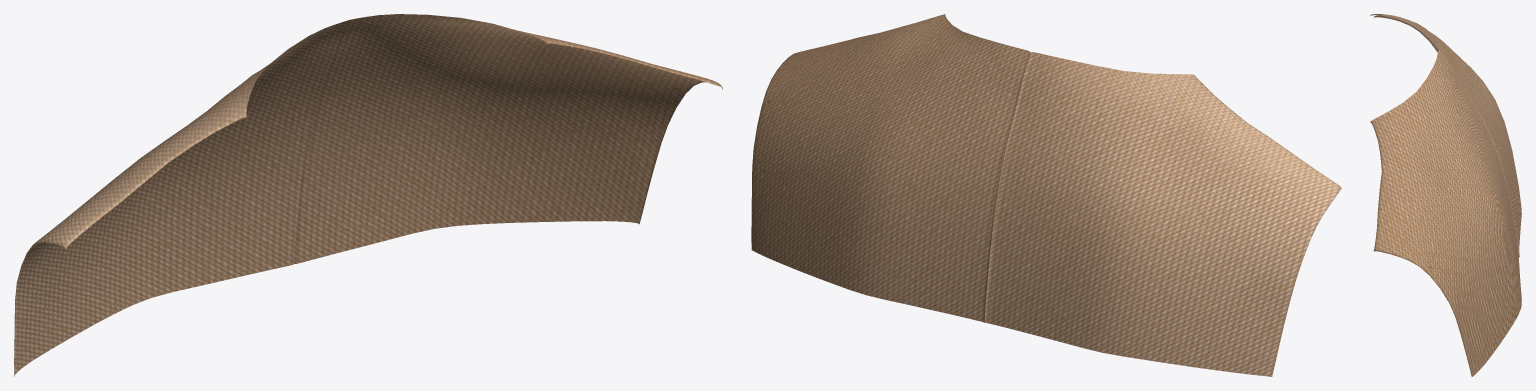
Rendered from Half_Linning.glb.
3 views of the same model, side by side, from view 1: azimuth 30°, elevation 25°; view 2: azimuth 150°, elevation 25°; view 3: azimuth 270°, elevation 25° (orthographic). The views are drawn at different scales.
Visible parts, largest first — view 1: Half_Linning; view 2: Half_Linning; view 3: Half_Linning.
Part boxes in pixels (box(x1,y1,x2,y2)): Half_Linning: box(14, 14, 722, 376); Half_Linning: box(751, 14, 1341, 376); Half_Linning: box(1370, 14, 1521, 376).
Bounding box in the file's own units: 0.0589 × 0.0253 × 0.016.
Materials: 1 (1 with a texture image).
